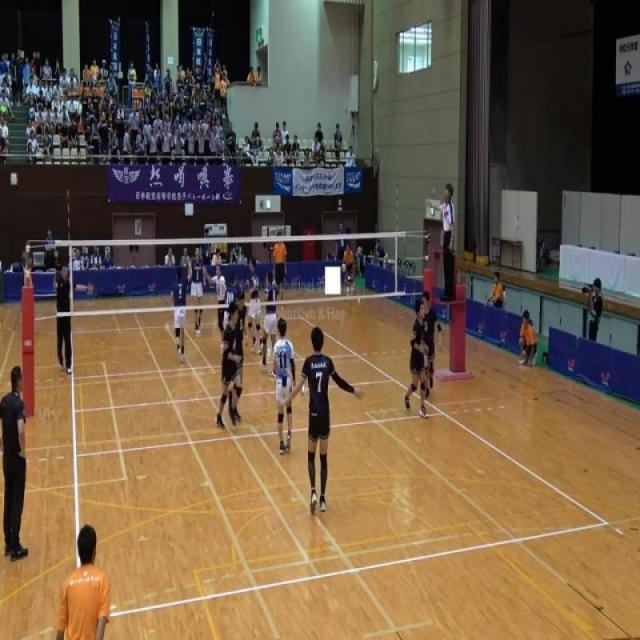volleyball: (298, 382, 308, 398), (342, 264, 346, 272)
